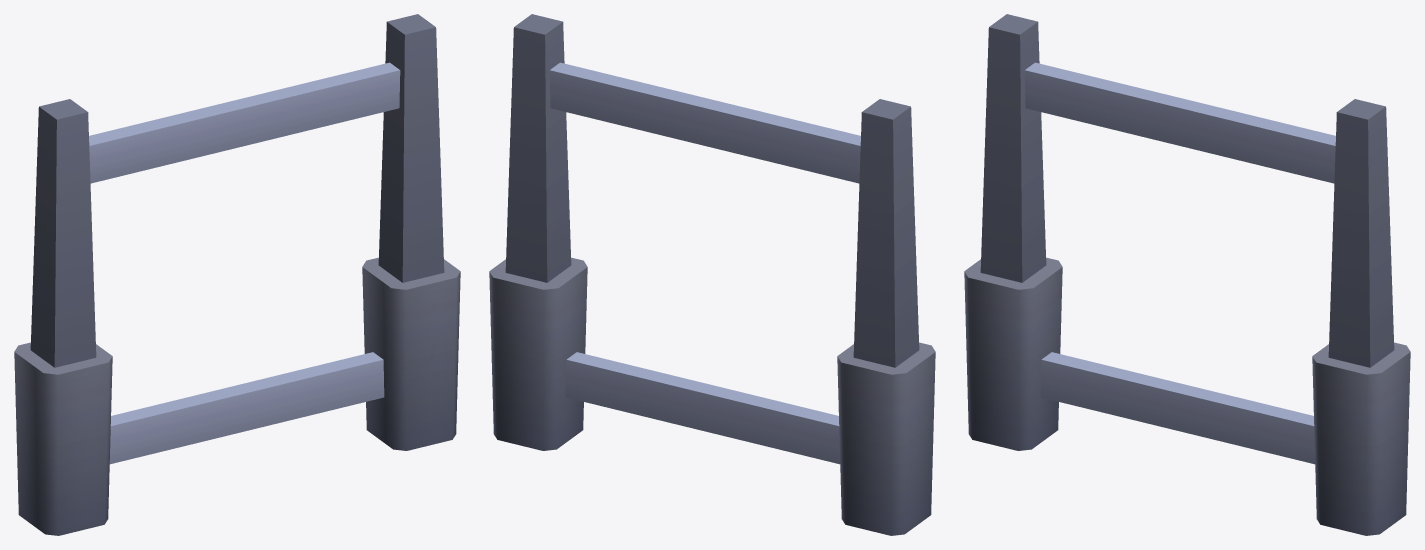
Rendered from structure-metal-wall.glb.
The picture shows the model from 3 angles, left to right: view 1: azimuth 30°, elevation 25°; view 2: azimuth 150°, elevation 25°; view 3: azimuth 330°, elevation 25°; orthographic projection.
Parts seen in each view (by area): view 1: structure-metal-wall; view 2: structure-metal-wall; view 3: structure-metal-wall.
Part boxes in pixels (x1,y1,x2,y2): structure-metal-wall: (14,14,460,535); structure-metal-wall: (489,14,935,535); structure-metal-wall: (964,14,1410,535).
Bounding box in the file's own units: 0.5354 × 0.5 × 0.0889.
Materials: 1 (1 with a texture image).
